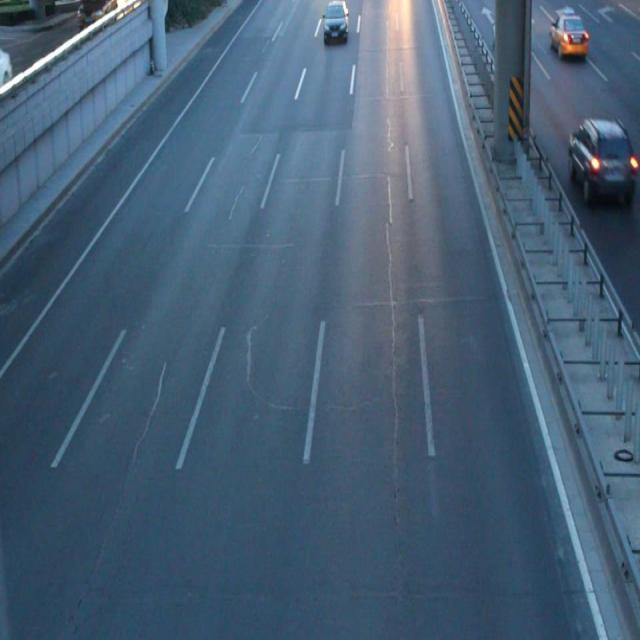car: (567, 116, 630, 198), (548, 14, 586, 56), (492, 18, 532, 52), (322, 1, 347, 40)
